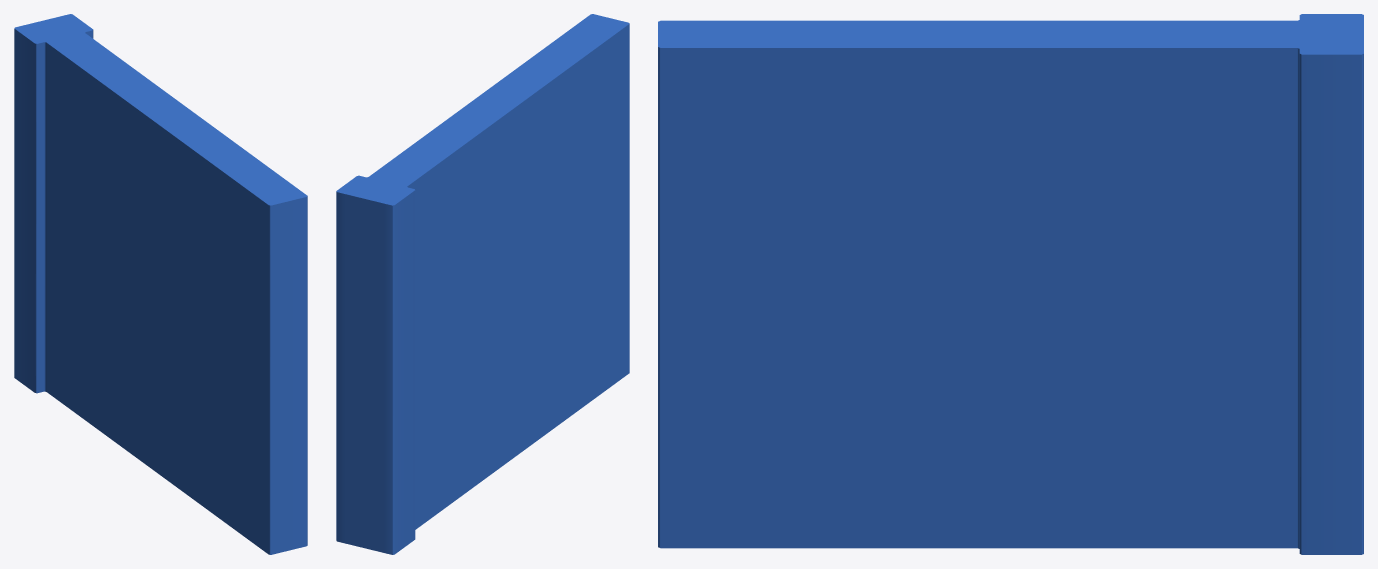
Rendered from SmallWall_V01.fbx.
3 views of the same model, side by side, from view 1: azimuth 30°, elevation 25°; view 2: azimuth 150°, elevation 25°; view 3: azimuth 270°, elevation 25° (orthographic). The views are drawn at different scales.
Parts seen in each view (by area): view 1: Wall_Small_v01; view 2: Wall_Small_v01; view 3: Wall_Small_v01.
Part boxes in pixels (<box>): Wall_Small_v01: <box>14,14,307,554</box>; Wall_Small_v01: <box>336,14,629,554</box>; Wall_Small_v01: <box>658,14,1363,554</box>.
Size of the model in its own units: 1.5 by 8.6 by 11.
